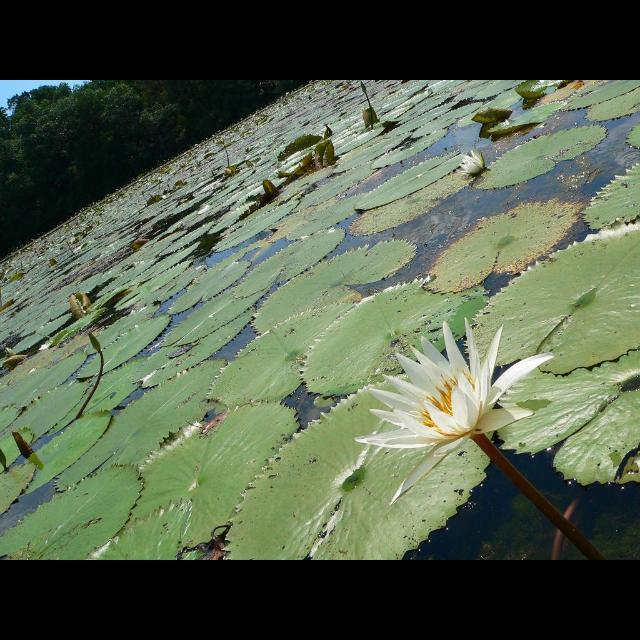Flower: (364, 318, 556, 502), (455, 144, 487, 176)
